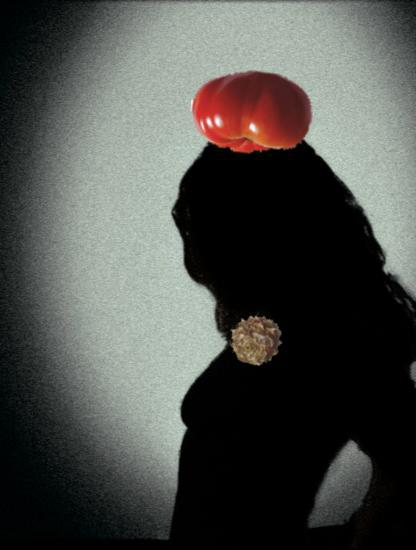Pineapple: (228, 312, 284, 368)
Tomato: (191, 51, 314, 174)
